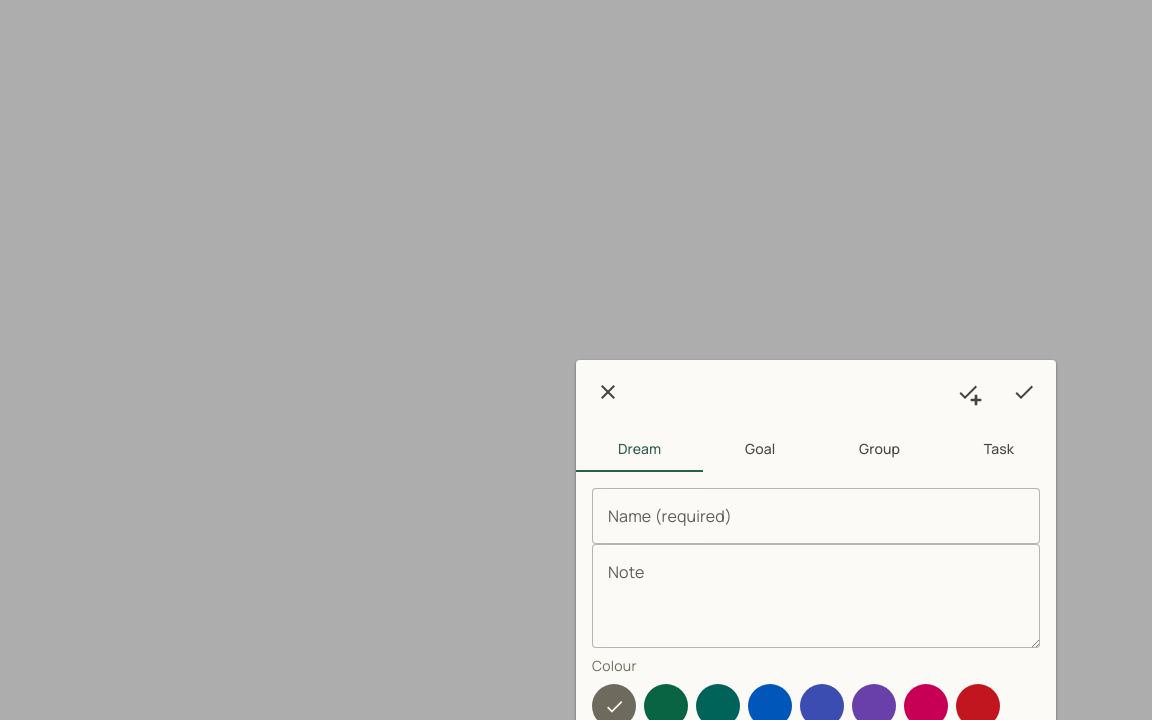
AddEntityDialog tab switching › validates only the active tab's name
The width and height of the screenshot is (1152, 720).
Type "Visit Japan" into the field labelled "Name (required)" at (816,516), box [592,488,1040,544]
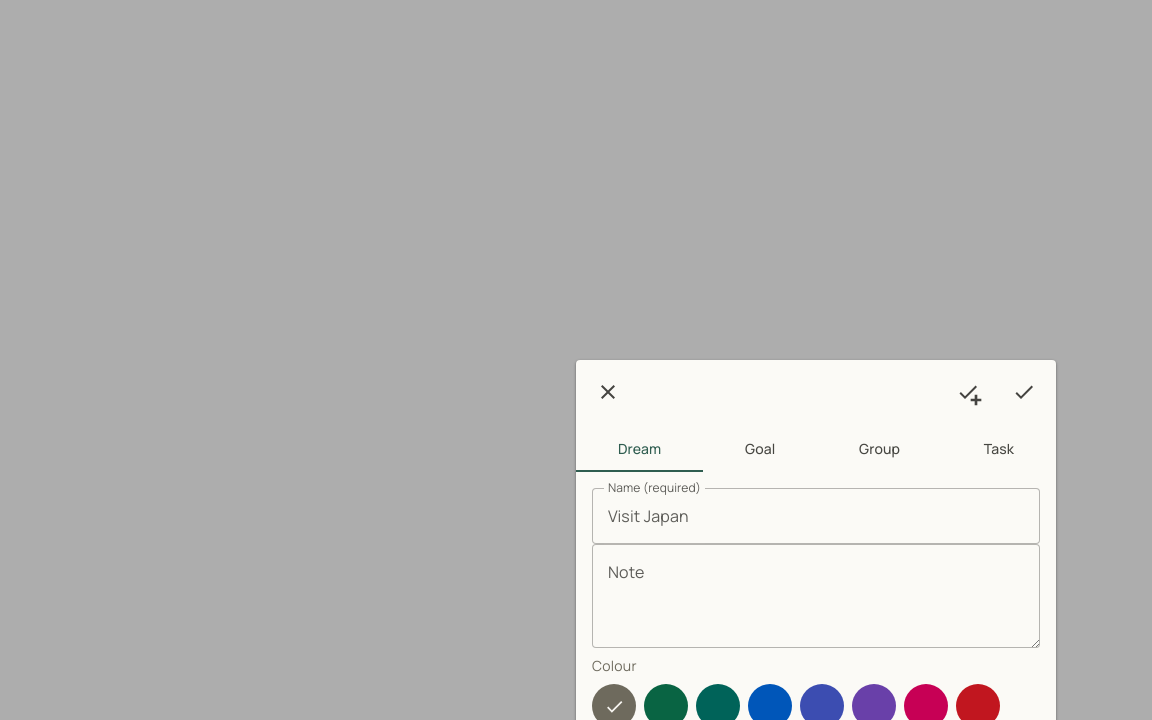
Click the tab "Task" at (999,448), box [942,424,1056,472]
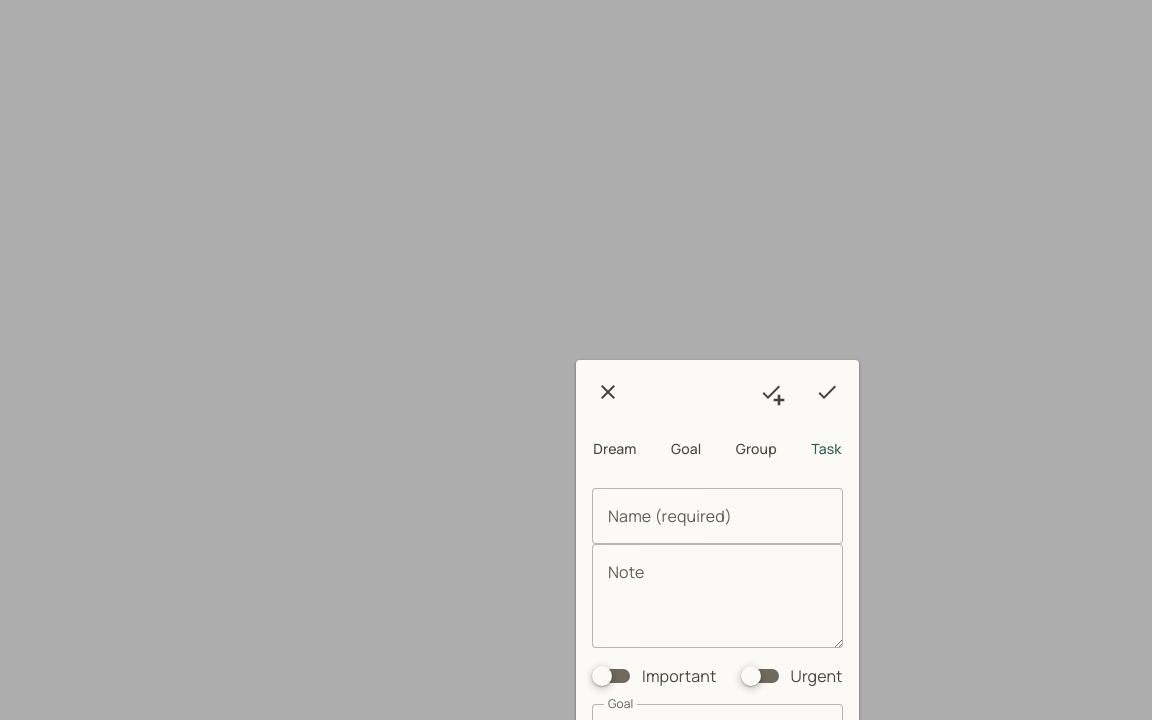
Click the button named "Save" at (827,392), box [803,368,851,416]
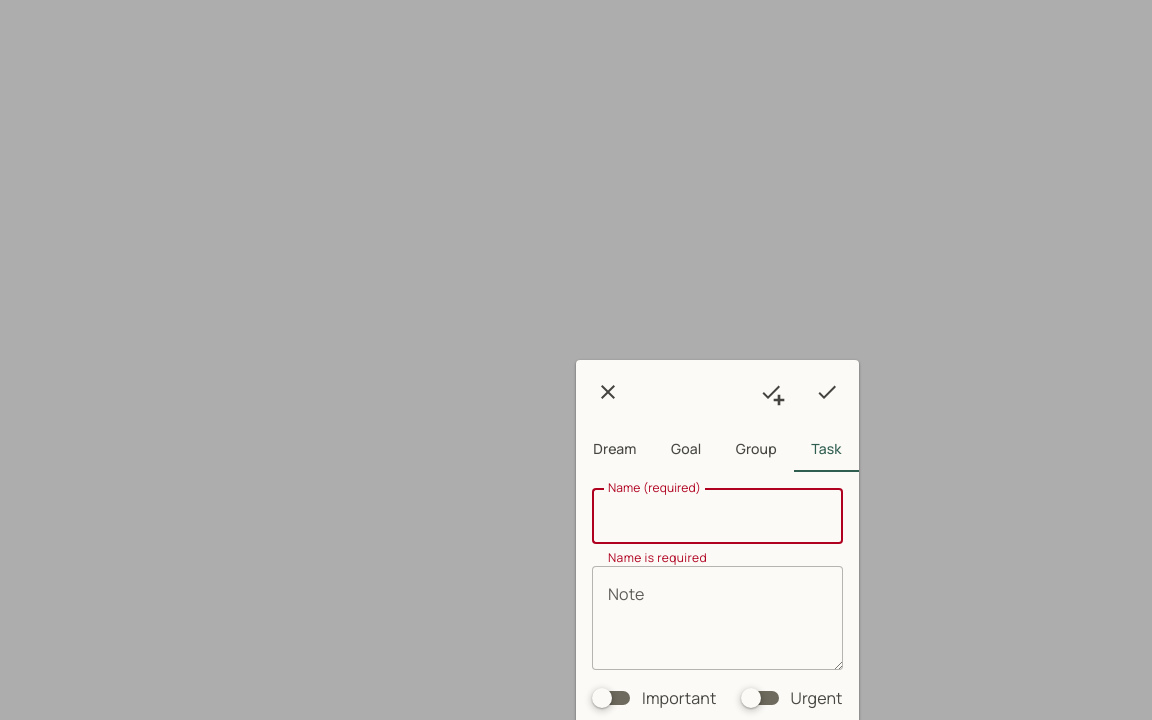
Check: the text "Name is required" is shown, box [608,549,707,566]
